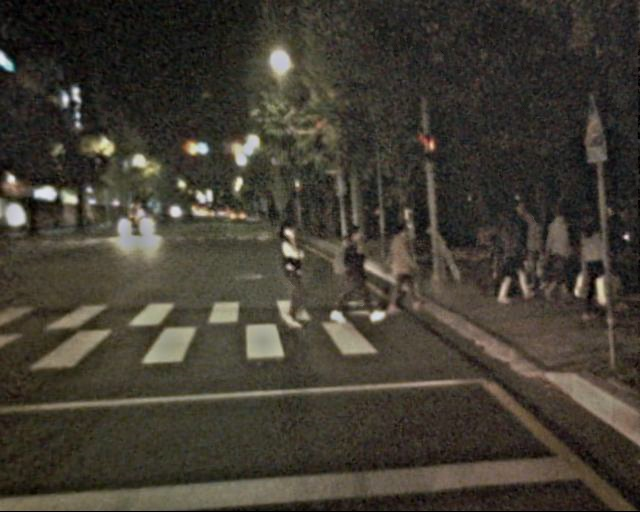person: (265, 217, 311, 329), (570, 217, 614, 325), (491, 206, 540, 302), (329, 224, 371, 326), (541, 205, 582, 304), (592, 202, 632, 300), (381, 223, 420, 318)
